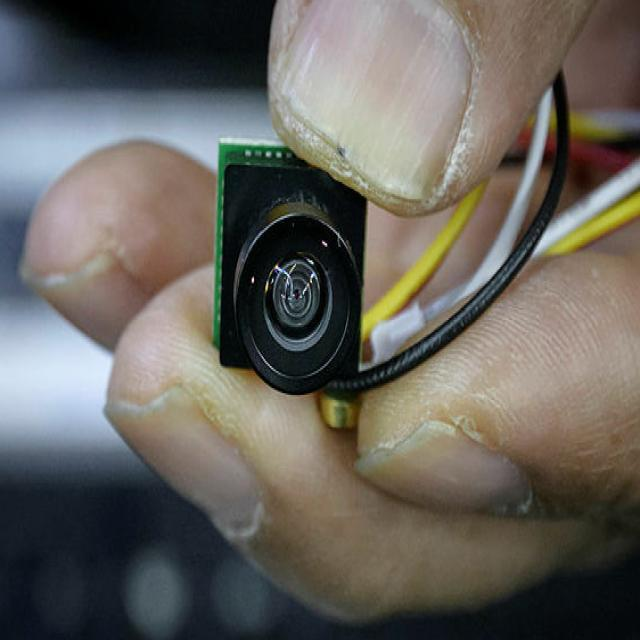hidden camera: (261, 256, 332, 347)
